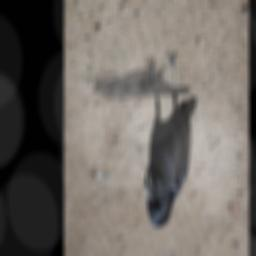Crow: (143, 51, 197, 228)
